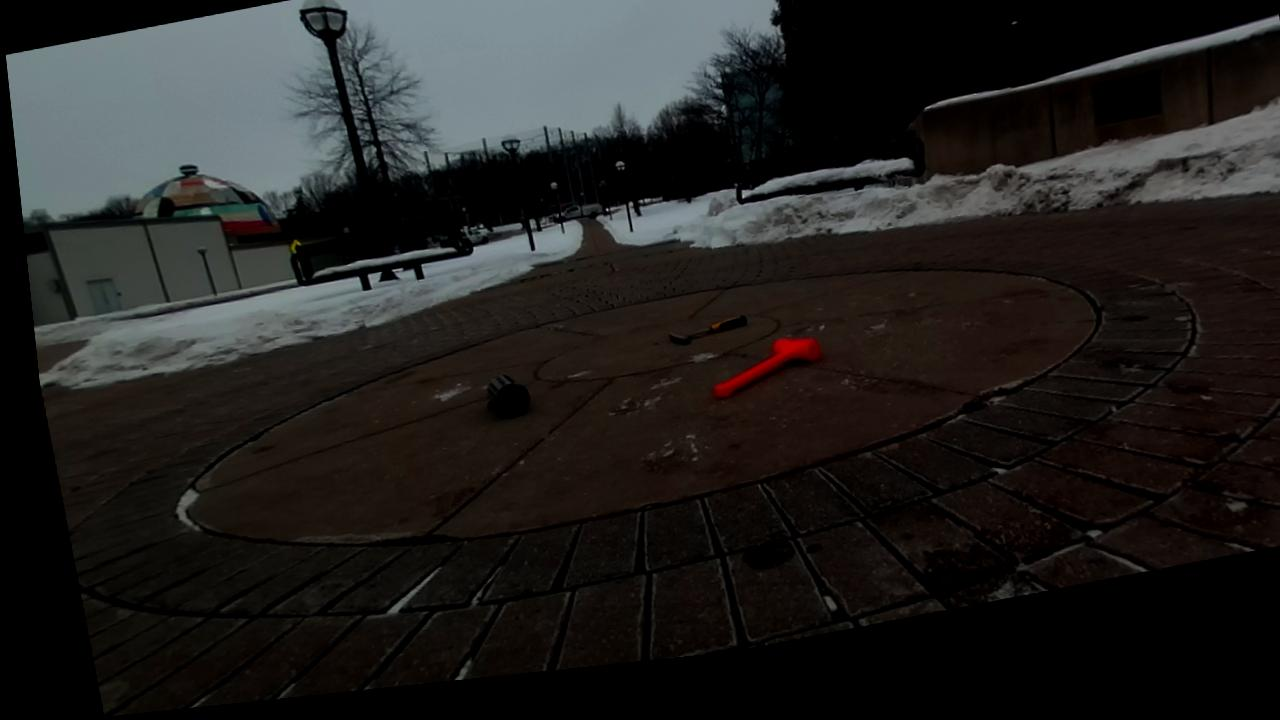bottle: (486, 375, 528, 416)
mallet: (715, 338, 818, 397)
pick: (669, 315, 746, 344)
